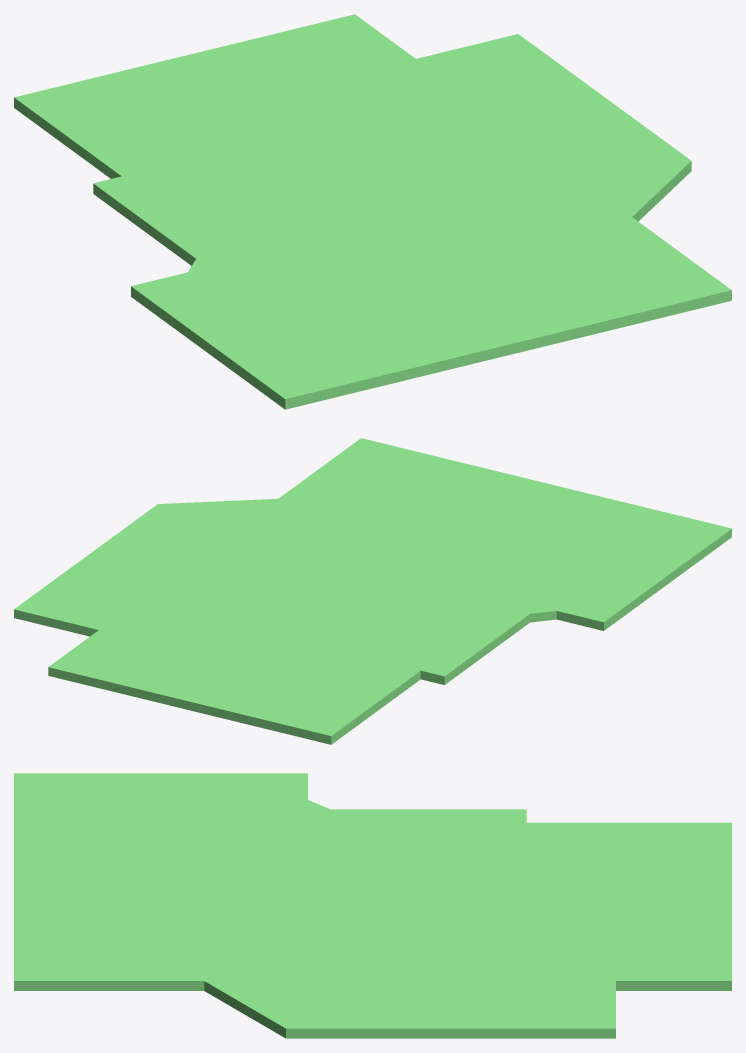
The model's file is S_Envi_FZFBase_Roof_01i.gltf.
The picture shows the model from 3 angles, top to bottom: view 1: azimuth 30°, elevation 25°; view 2: azimuth 150°, elevation 25°; view 3: azimuth 270°, elevation 25°; orthographic projection. The views are drawn at different scales.
Visible parts, largest first — view 1: S_Envi_FZFBase_Roof_01i; view 2: S_Envi_FZFBase_Roof_01i; view 3: S_Envi_FZFBase_Roof_01i.
Part boxes in pixels (<box>): S_Envi_FZFBase_Roof_01i: <box>14,14,731,409</box>; S_Envi_FZFBase_Roof_01i: <box>14,438,731,744</box>; S_Envi_FZFBase_Roof_01i: <box>14,773,731,1038</box>.
Size of the model in its own units: 27.06 by 0.607 by 32.19.
